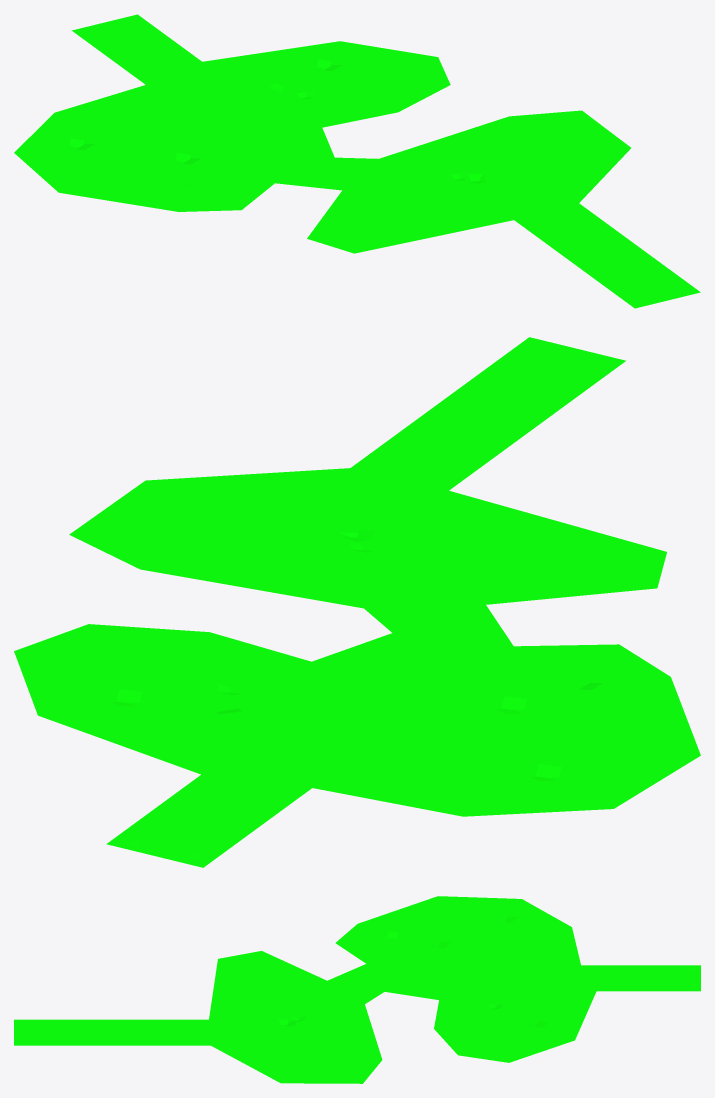
The model's file is s03b_ib2-floor.glb.
3 renders of one model, top to bottom at view 1: azimuth 30°, elevation 25°; view 2: azimuth 150°, elevation 25°; view 3: azimuth 270°, elevation 25°, orthographic. The views are drawn at different scales.
Parts seen in each view (by area): view 1: collision_floor-colonly; view 2: collision_floor-colonly; view 3: collision_floor-colonly.
Part boxes in pixels (x1,y1,x2,y2): collision_floor-colonly: (14,14,700,308); collision_floor-colonly: (14,337,700,867); collision_floor-colonly: (14,896,700,1083).
Bounding box in the file's own units: 43.29 × 0.4688 × 66.95.
